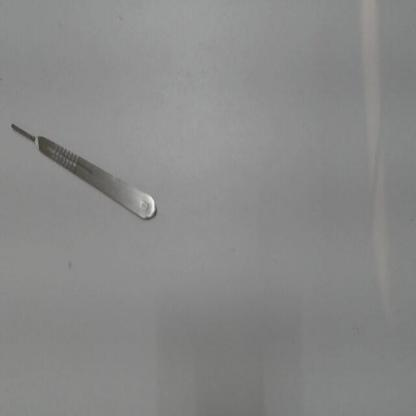No.3 BP Handle: (6, 108, 167, 236)
